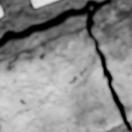brick: (32, 0, 54, 7), (0, 6, 2, 16)
broken_brick: (0, 28, 121, 131), (92, 10, 131, 120)
crack: (0, 0, 131, 130), (110, 23, 115, 27)
